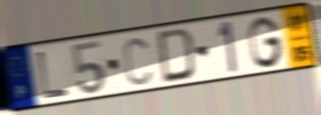1: (216, 19, 240, 76)
5: (71, 39, 108, 96)
C: (121, 35, 153, 88)
D: (155, 26, 197, 86)
G: (247, 15, 286, 70)
L: (35, 48, 71, 101)
